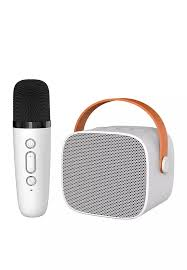microphone: (5, 77, 58, 221)
speaker: (61, 95, 178, 227)
